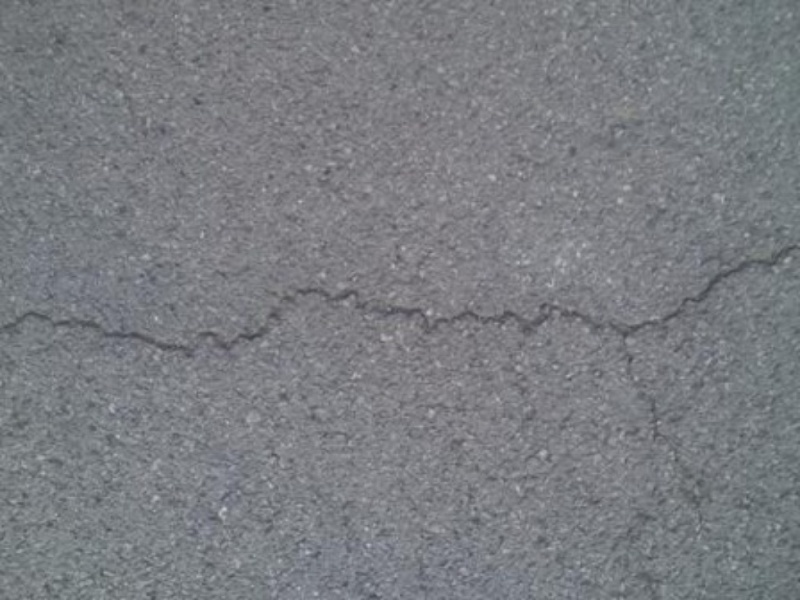crack: (10, 228, 791, 409)
